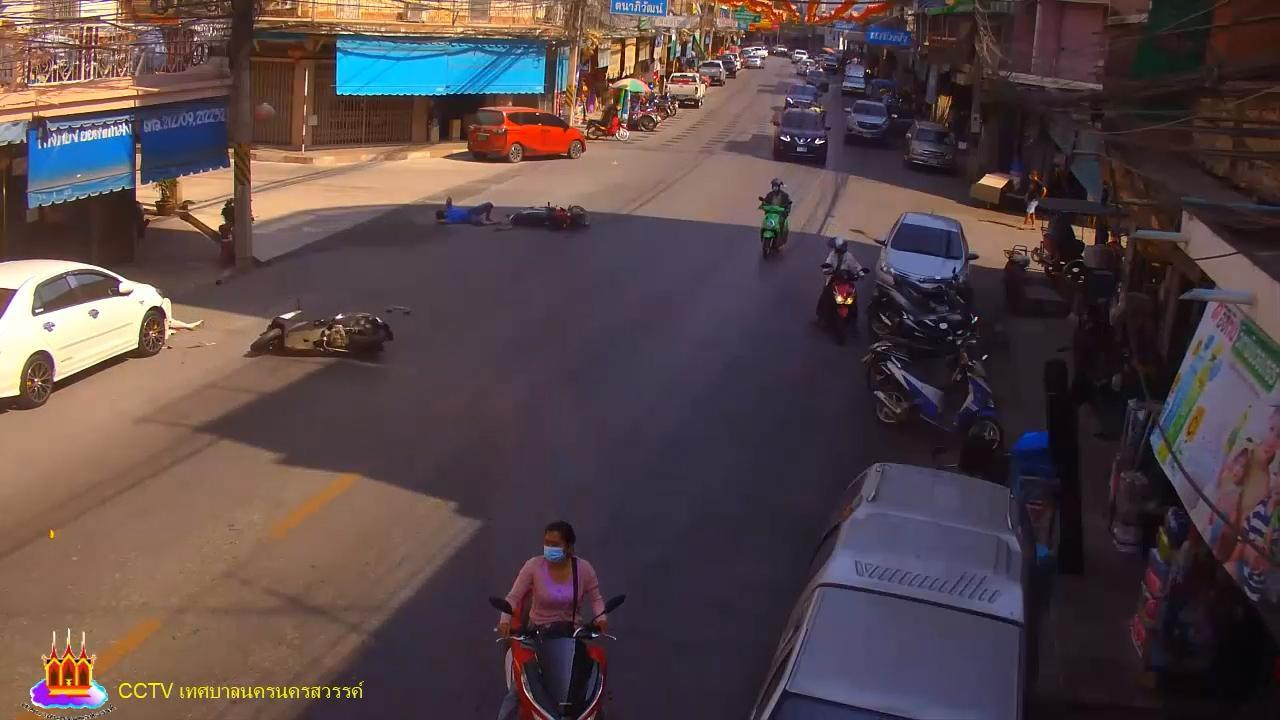accident: (434, 194, 502, 228)
